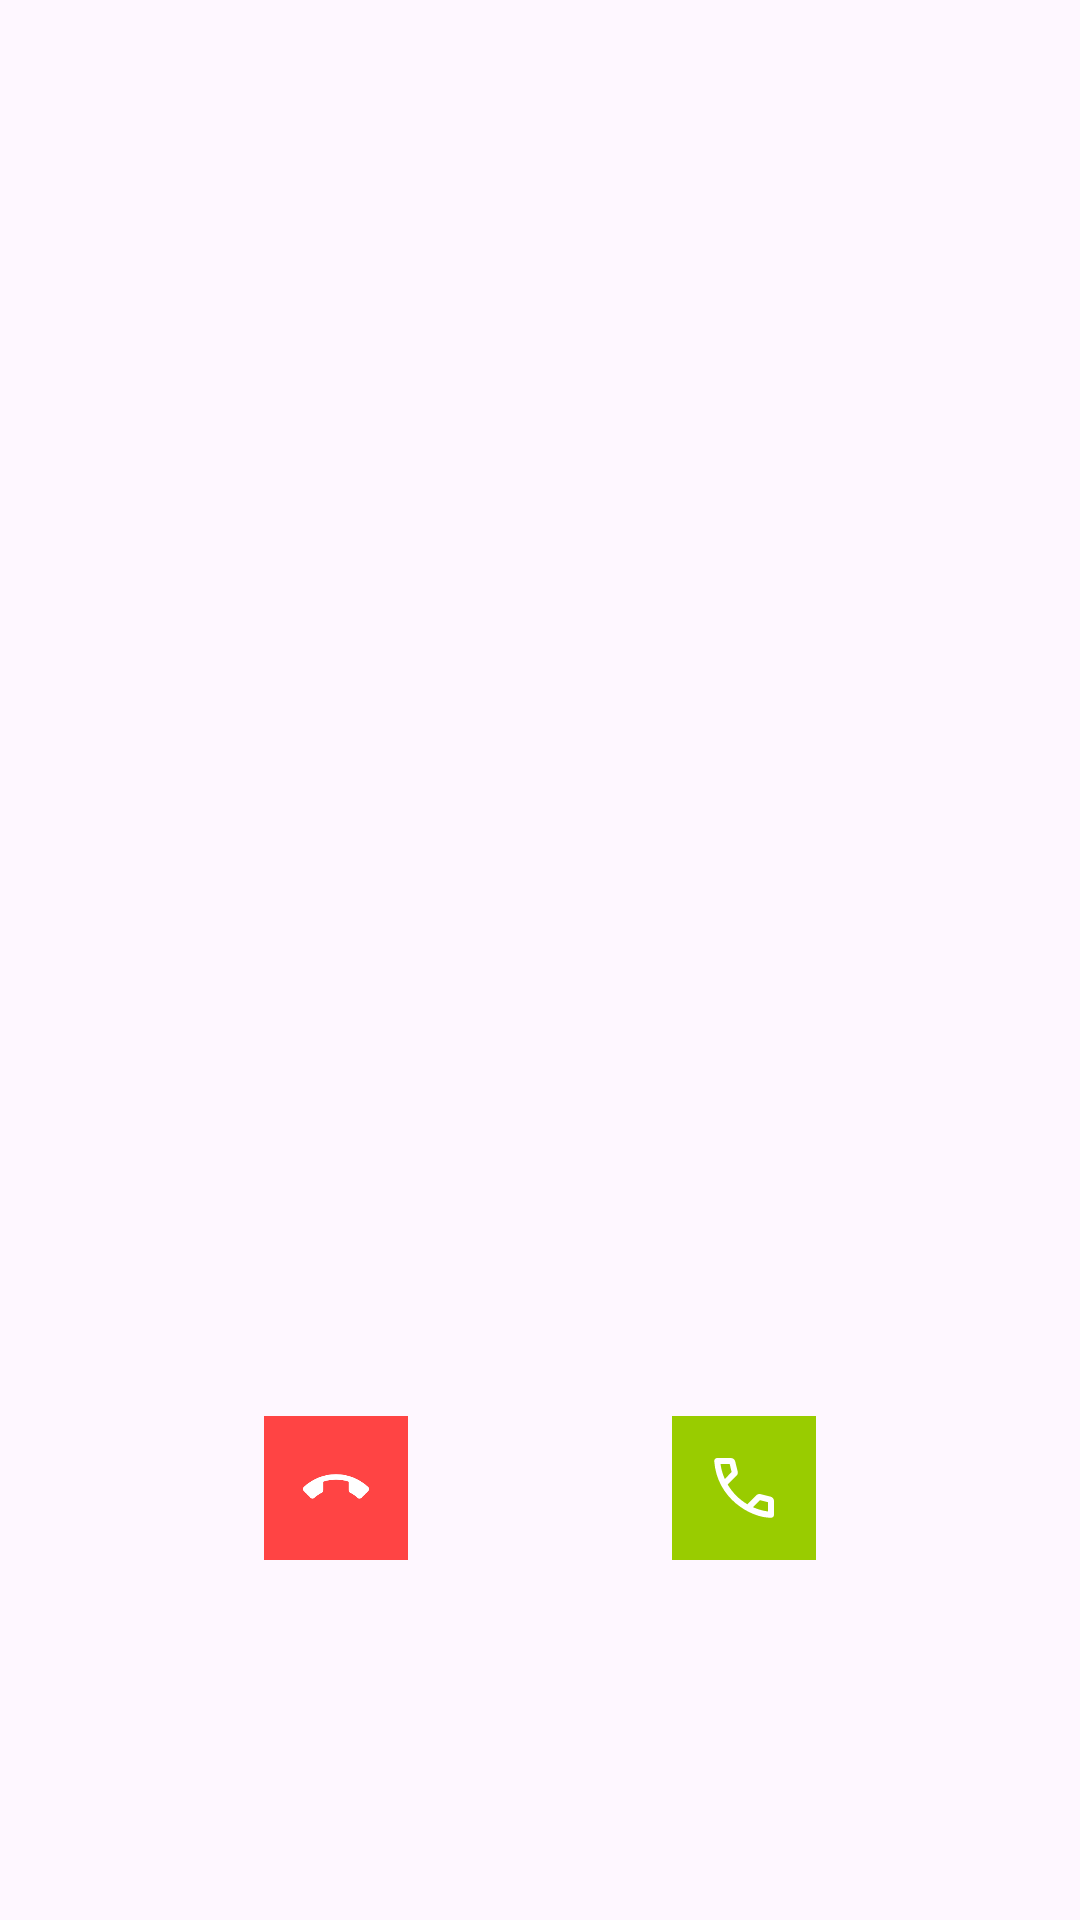

Named icons in this screenshot (1080w x 1920h) and their centers, (x,y):
call answer: (744,1488)
call end: (336,1488)
